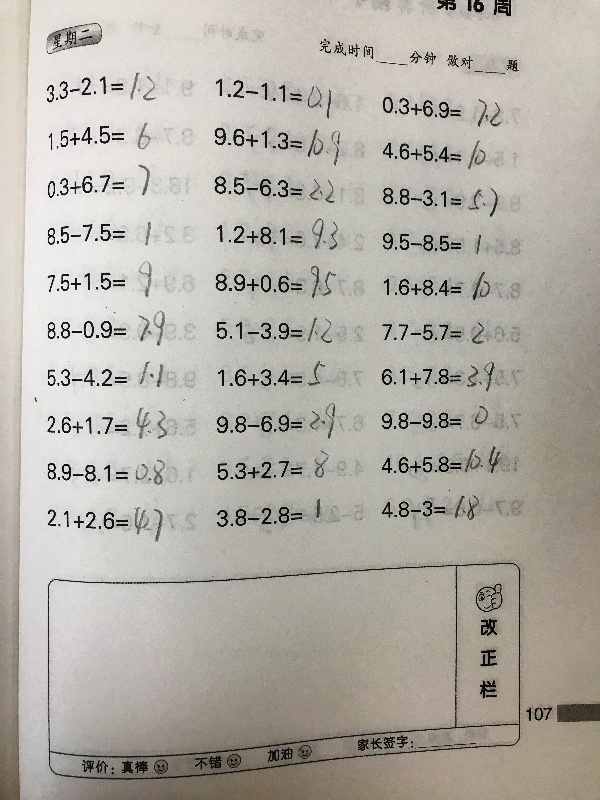equation: (206, 125, 368, 169), (45, 257, 198, 301), (42, 307, 195, 351), (211, 76, 363, 120), (376, 87, 528, 131), (44, 354, 199, 397), (38, 404, 193, 447), (44, 500, 178, 547), (209, 400, 354, 443), (208, 447, 353, 490), (376, 177, 505, 220), (374, 222, 503, 265), (376, 265, 505, 308), (374, 310, 503, 353), (375, 352, 504, 395), (373, 397, 502, 440), (378, 441, 507, 484), (207, 172, 352, 210), (211, 215, 356, 253), (211, 263, 356, 301), (211, 312, 356, 350), (211, 357, 356, 395), (209, 492, 343, 531), (378, 134, 505, 175), (44, 456, 196, 489), (374, 488, 495, 526), (42, 69, 159, 105), (45, 121, 154, 156), (43, 171, 127, 200), (43, 219, 128, 246)
